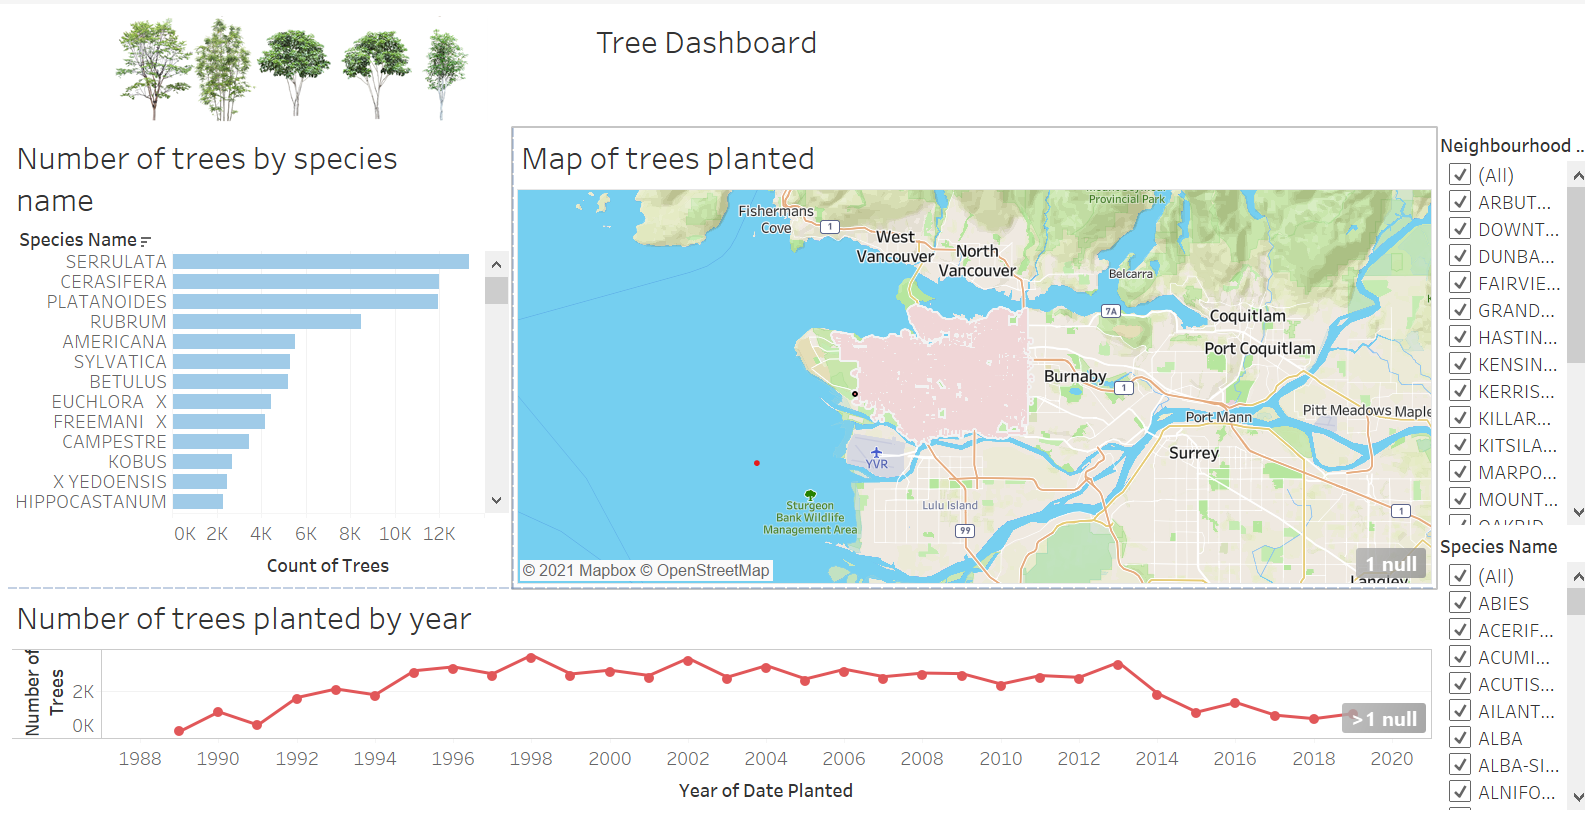

The page's visual inventory and layout, read from the dashboard file:
{"tool":"tableau","page":{"name":"Dashboard 1","canvas":[1000,1000],"units":"permille","ordinal":0},"visuals":[{"type":"worksheet","box":[0,0,1000,1000]},{"type":"worksheet","param":"C:/Users/Haneen/Desktop/data301_template_lab6/data/trees.png","box":[5,9.8,361.6,141.8]},{"type":"worksheet","title":"Sheet 1","mark":"Automatic","box":[366.6,9.8,628.4,141.8]},{"type":"worksheet","param":"horz","box":[5,151.6,990,838.6]},{"type":"worksheet","box":[5,151.6,890.3,838.6]},{"type":"worksheet","title":"B1","mark":"Automatic","rows":["species_name"],"cols":["tree_id"],"box":[5,151.6,315.1,562.2]},{"type":"worksheet","title":"D1","mark":"Automatic","rows":["latitude"],"cols":["longitude"],"box":[320.1,151.6,575.2,562.2]},{"type":"worksheet","param":"vert","box":[895.3,151.6,99.8,838.6]},{"type":"worksheet","title":"C1","mark":"Automatic","rows":["tree_id","tree_id"],"cols":["date_planted"],"param":"[federated.1qtefva122j7uf13rjg9z01hz2qf].[none:neighbourhood_name:nk]","box":[895.3,151.6,99.8,490.2]},{"type":"worksheet","title":"B1","mark":"Automatic","rows":["species_name"],"cols":["tree_id"],"param":"[federated.1qtefva122j7uf13rjg9z01hz2qf].[none:species_name:nk]","box":[895.3,641.8,99.8,348.4]},{"type":"worksheet","title":"C1","mark":"Automatic","rows":["tree_id","tree_id"],"cols":["date_planted"],"box":[5,713.8,890.3,276.4]}]}

Visuals, with their boxes on the dashboard's canvas, which has no fixed pixel size, in thousandths of its width and height (x1, y1, x2, y2). These are canvas units, not pixel positions in the 1585x820 screenshot, which may show the page scaled, cropped or inside an application window:
worksheet: bbox=[0, 0, 1000, 1000]
worksheet: bbox=[5, 10, 367, 152]
"Sheet 1" worksheet: bbox=[367, 10, 995, 152]
worksheet: bbox=[5, 152, 995, 990]
worksheet: bbox=[5, 152, 895, 990]
"B1" worksheet: bbox=[5, 152, 320, 714]
"D1" worksheet: bbox=[320, 152, 895, 714]
worksheet: bbox=[895, 152, 995, 990]
"C1" worksheet: bbox=[895, 152, 995, 642]
"B1" worksheet: bbox=[895, 642, 995, 990]
"C1" worksheet: bbox=[5, 714, 895, 990]
